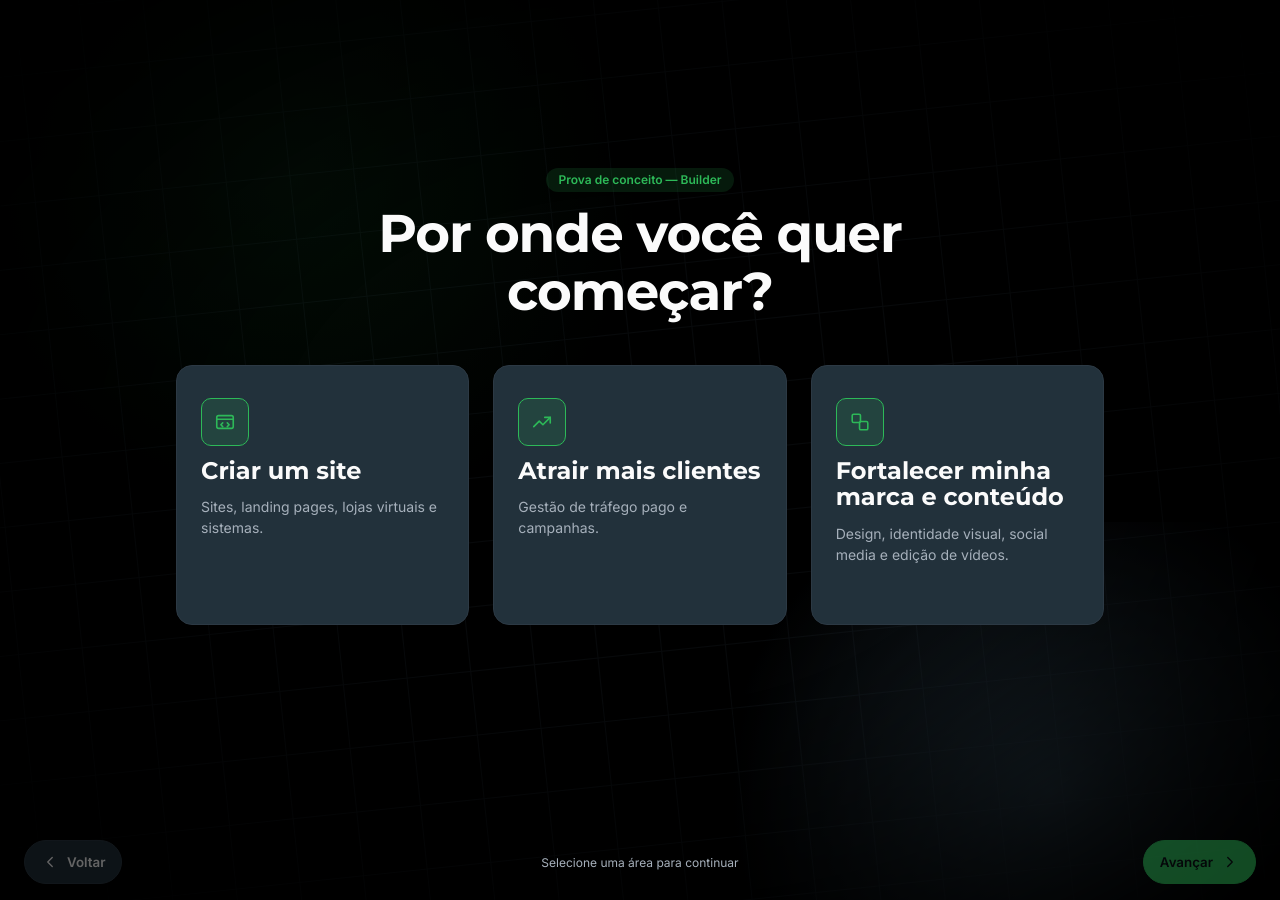
Scenario: BuilderExperiencePoc (Prova de Conceito — Builder) › selecionar um card NÃO avança sozinho — só habilita o botão Avançar
Click the button "Criar um site": (225, 421) 176,364 -> 469,624
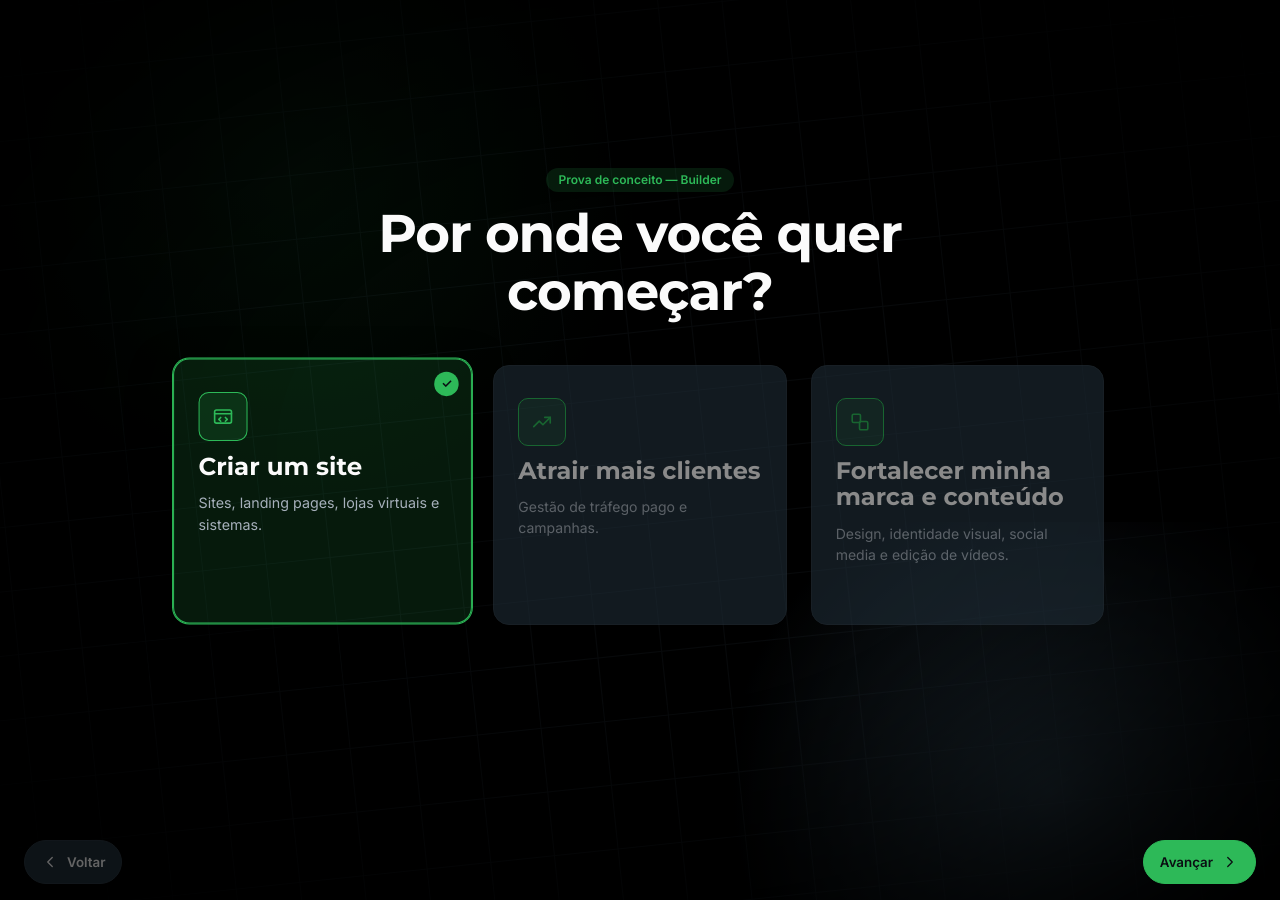
Expected: the heading "Por onde você quer começar?" is shown, 378,201 -> 902,323
Result: the button with aria-label "Avançar para a próxima cena" is enabled at 1143,840 -> 1256,884
